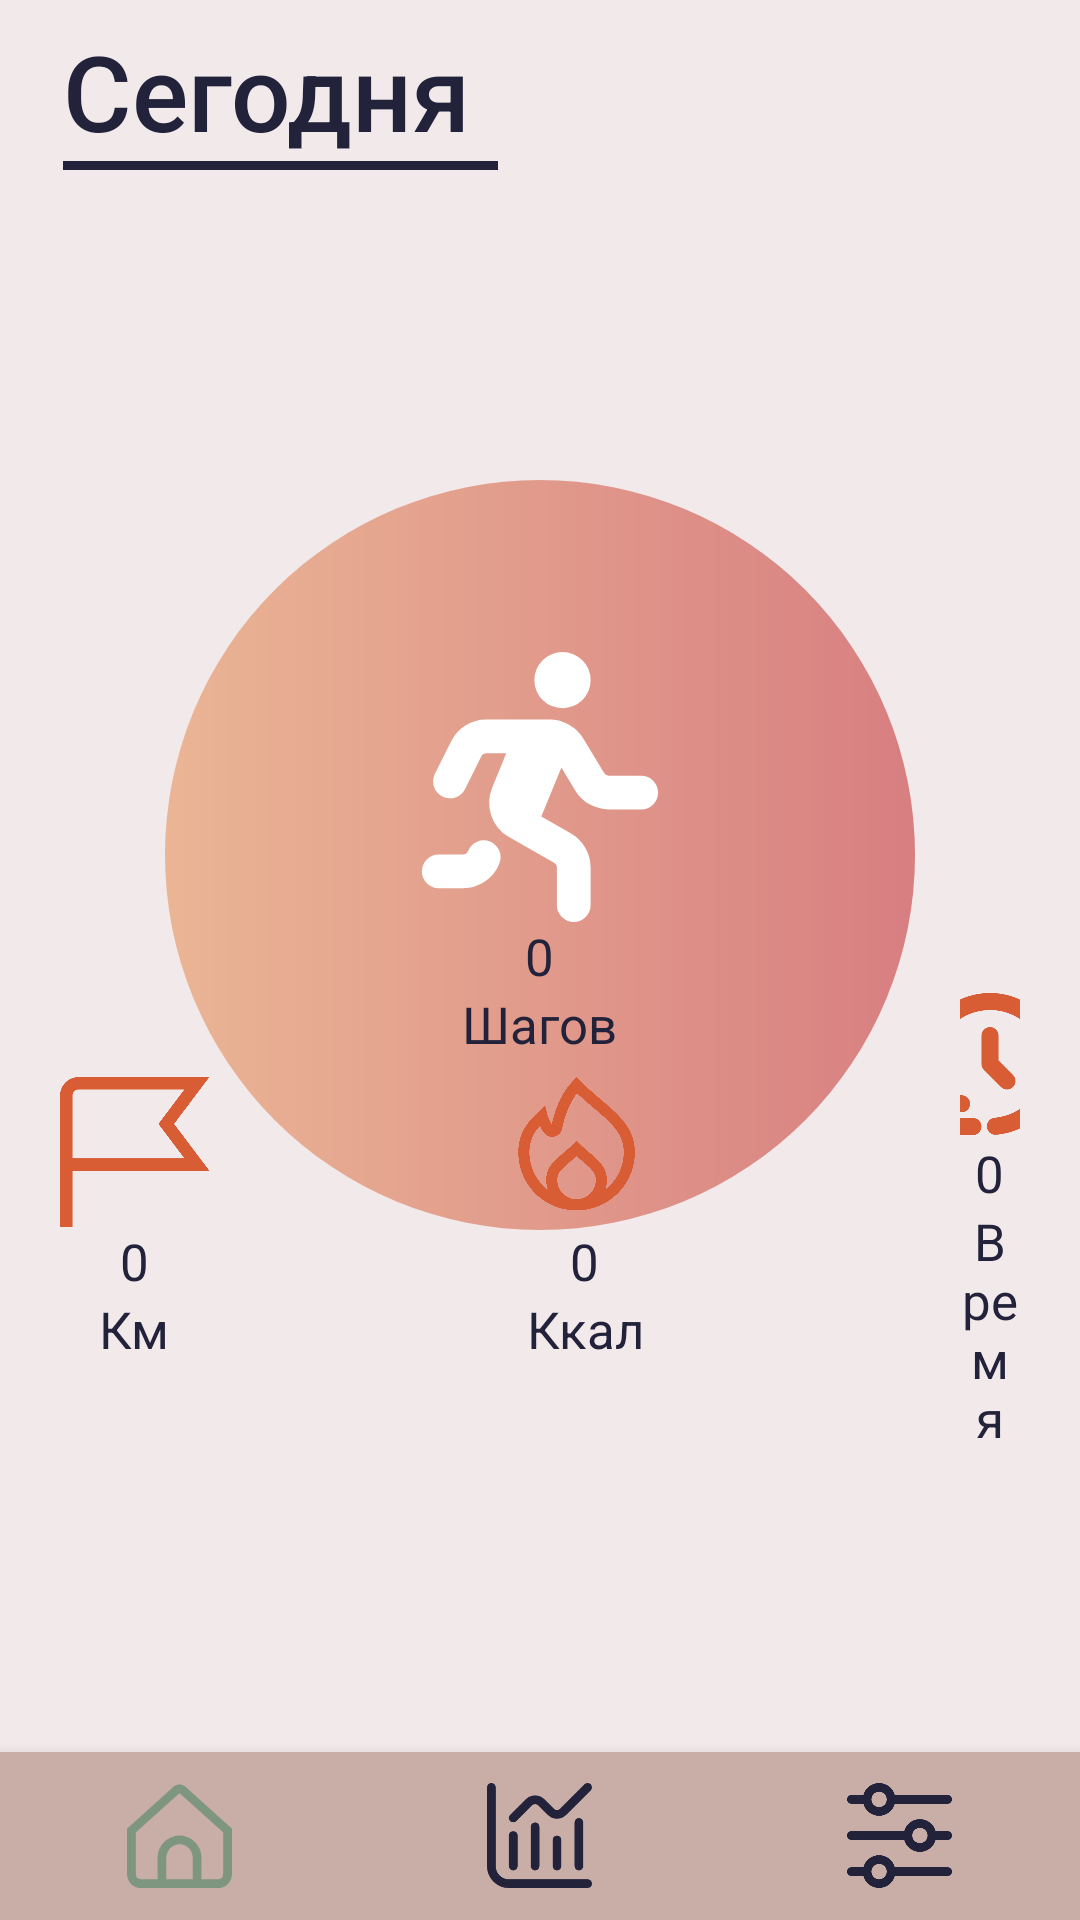

Screen size 1080px x 1920px. Icon name, then its center in pixels as (x,y):
flag: (134,1152)
flame: (576,1143)
running: (548,787)
